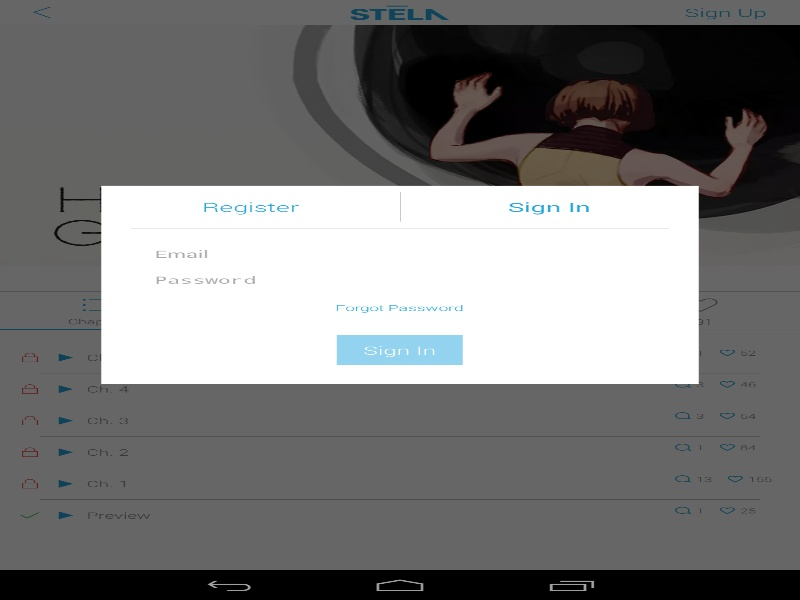Button: (114, 191, 386, 221), (413, 191, 685, 221), (335, 292, 463, 322), (336, 335, 462, 365)
Input: (154, 247, 645, 260), (154, 273, 645, 286)
